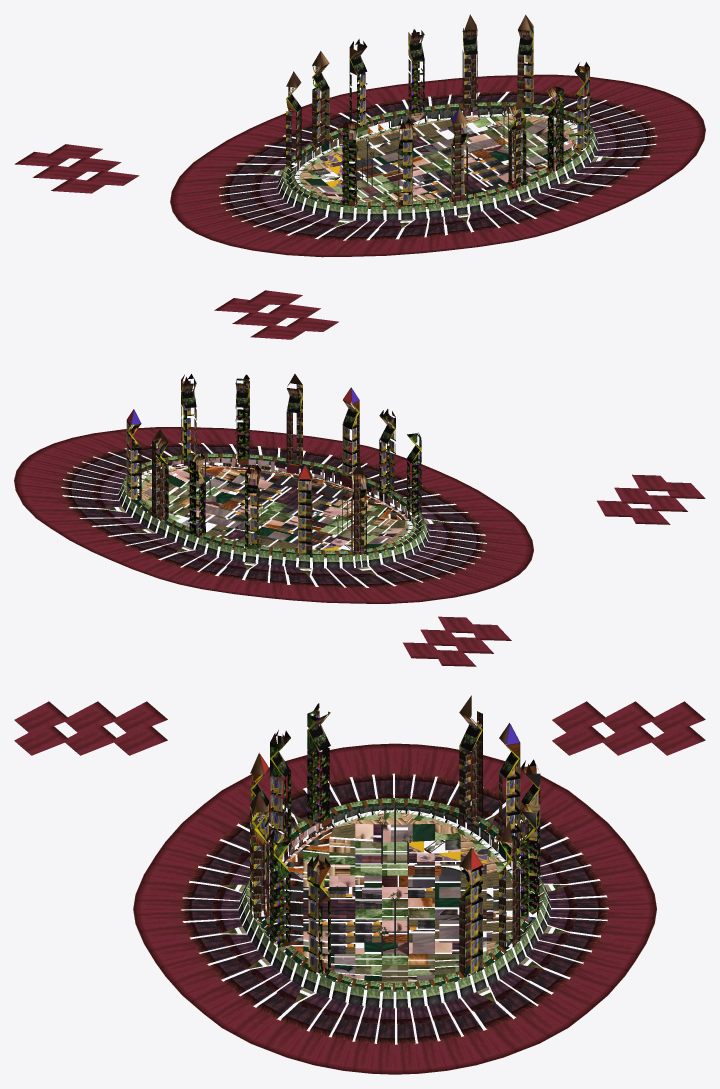
3 views of the same model, one above another, from view 1: azimuth 30°, elevation 25°; view 2: azimuth 150°, elevation 25°; view 3: azimuth 270°, elevation 25° (orthographic). The views are drawn at different scales.
Visible parts, largest first — view 1: T1L2M007_166, T1L2M007_182, T1L2M007_177, T1L2M007_144, T1L2M007_198, T1L2M007_100, T1L2M007_158, T1L2M007_41, T1L2M007_36, T1L2M007_55, T1L2M007_75, T1L2M007_120 (+68 smaller); view 2: T1L2M007_177, T1L2M007_55, T1L2M007_182, T1L2M007_41, T1L2M007_144, T1L2M007_100, T1L2M007_158, T1L2M007_36, T1L2M007_166, T1L2M007_198, T1L2M007_9, T1L2M007_30 (+62 smaller); view 3: T1L2M007_166, T1L2M007_55, T1L2M007_198, T1L2M007_100, T1L2M007_158, T1L2M007_71, T1L2M007_182, T1L2M007_41, T1L2M007_105, T1L2M007_9, T1L2M007_75, T1L2M007_142 (+109 smaller).
Boxes of the visible parts, box(x1,y1,x2,y2) form: T1L2M007_166: box(620, 140, 703, 168); T1L2M007_182: box(508, 94, 526, 187); T1L2M007_177: box(451, 108, 467, 201); T1L2M007_144: box(252, 235, 342, 256); T1L2M007_198: box(523, 203, 607, 230); T1L2M007_100: box(178, 210, 251, 239); T1L2M007_158: box(546, 86, 563, 170); T1L2M007_41: box(408, 29, 424, 113); T1L2M007_36: box(349, 39, 367, 127); T1L2M007_55: box(286, 71, 301, 164); T1L2M007_75: box(591, 81, 664, 104); T1L2M007_120: box(211, 226, 284, 250); T1L2M007_177: box(342, 387, 359, 478); T1L2M007_55: box(351, 464, 366, 554); T1L2M007_182: box(286, 374, 302, 464); T1L2M007_41: box(188, 453, 206, 536); T1L2M007_144: box(469, 512, 531, 540); T1L2M007_100: box(466, 552, 531, 581); T1L2M007_158: box(235, 374, 249, 458); T1L2M007_36: box(245, 465, 261, 550); T1L2M007_166: box(94, 427, 180, 457); T1L2M007_198: box(280, 433, 342, 463); T1L2M007_9: box(110, 551, 179, 578); T1L2M007_30: box(298, 465, 312, 554); T1L2M007_166: box(222, 1004, 318, 1057); T1L2M007_55: box(459, 695, 482, 822); T1L2M007_198: box(135, 921, 218, 962); T1L2M007_100: box(343, 743, 419, 776); T1L2M007_158: box(270, 830, 291, 947); T1L2M007_71: box(459, 848, 482, 974); T1L2M007_182: box(250, 790, 268, 917); T1L2M007_41: box(521, 799, 540, 916); T1L2M007_105: box(355, 805, 418, 841); T1L2M007_9: box(592, 921, 654, 961); T1L2M007_75: box(438, 1031, 503, 1070); T1L2M007_142: box(287, 1031, 351, 1070).
Size of the model in its own units: 72.31 by 12.56 by 56.62.
